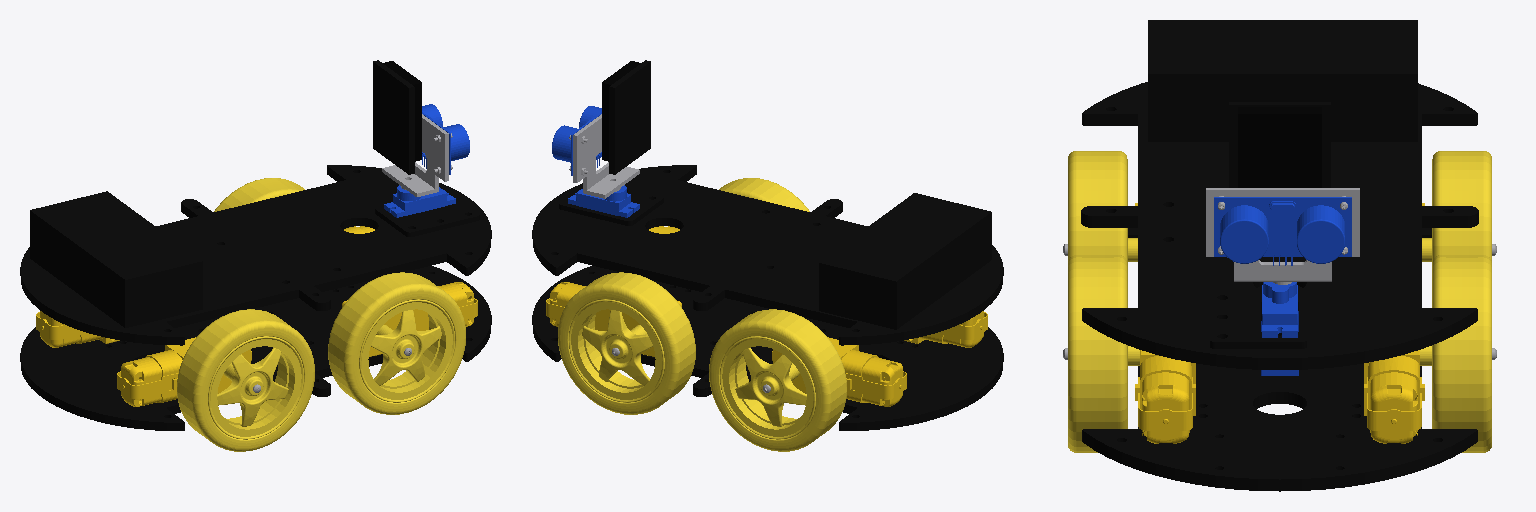
The robot description file, URDF, robot "elegoo_smart_robot_car_v4":
<?xml version="1.0"?>
<robot name="elegoo_smart_robot_car_v4">
  <material name="acrylic"><color rgba="0.08000 0.08000 0.08000 1.00000"/></material>
  <material name="motor"><color rgba="0.95000 0.80000 0.15000 1.00000"/></material>
  <material name="wheel"><color rgba="0.95000 0.85000 0.25000 1.00000"/></material>
  <material name="pcb"><color rgba="0.10000 0.35000 0.55000 1.00000"/></material>
  <material name="blue"><color rgba="0.15000 0.35000 0.85000 1.00000"/></material>
  <material name="metal"><color rgba="0.70000 0.70000 0.72000 1.00000"/></material>
  <material name="camera"><color rgba="0.05 0.05 0.05 1"/></material>
  <link name="base_footprint"/>
  <joint name="base_footprint_joint" type="fixed">
    <parent link="base_footprint"/>
    <child link="base_link"/>
    <origin xyz="0 0 0.03330"/>
  </joint>
  <link name="base_link">
    <visual>
      <geometry><mesh filename="meshes/base_link_acrylic.stl"/></geometry>
      <material name="acrylic"/>
    </visual>
    <visual>
      <geometry><mesh filename="meshes/base_link_blue.stl"/></geometry>
      <material name="blue"/>
    </visual>
    <visual>
      <geometry><mesh filename="meshes/base_link_metal.stl"/></geometry>
      <material name="metal"/>
    </visual>
    <visual>
      <geometry><mesh filename="meshes/base_link_motor.stl"/></geometry>
      <material name="motor"/>
    </visual>
    <visual>
      <geometry><mesh filename="meshes/base_link_pcb.stl"/></geometry>
      <material name="pcb"/>
    </visual>
    <visual>
      <origin xyz="-0.07550 0.00100 0.04565"/>
      <geometry><box size="0.04200 0.08960 0.02500"/></geometry>
      <material name="acrylic"/>
    </visual>
    <collision>
      <origin xyz="-0.00050 0.00000 0.00875"/>
      <geometry><box size="0.23190 0.13220 0.04920"/></geometry>
    </collision>
    <collision>
      <origin xyz="0.09150 0.00000 -0.02385"/>
      <geometry><box size="0.03500 0.04500 0.01150"/></geometry>
    </collision>
    <collision>
      <origin xyz="-0.03050 -0.00200 0.04575"/>
      <geometry><box size="0.15000 0.09000 0.02500"/></geometry>
    </collision>
    <inertial>
      <origin xyz="-0.00550 0.00000 0.01375"/>
      <mass value="0.62"/>
      <inertia ixx="1.191e-03" ixy="0" ixz="0" iyy="3.072e-03" iyz="0" izz="3.681e-03"/>
    </inertial>
  </link>
  <link name="front_left_wheel">
    <visual>
      <geometry><mesh filename="meshes/front_left_wheel_metal.stl"/></geometry>
      <material name="metal"/>
    </visual>
    <visual>
      <geometry><mesh filename="meshes/front_left_wheel_wheel.stl"/></geometry>
      <material name="wheel"/>
    </visual>
    <collision>
      <origin rpy="1.5708 0 0"/>
      <geometry><cylinder radius="0.0333" length="0.0257"/></geometry>
    </collision>
    <inertial>
      <origin xyz="0.00000 0.00000 0.00000"/>
      <mass value="0.03"/>
      <inertia ixx="9.968e-06" ixy="0" ixz="0" iyy="1.663e-05" iyz="0" izz="9.968e-06"/>
    </inertial>
  </link>
  <joint name="front_left_wheel_joint" type="continuous">
    <parent link="base_link"/>
    <child link="front_left_wheel"/>
    <origin xyz="0.04090 0.05800 0.00000"/>
    <axis xyz="0 1 0"/>
    <limit effort="0.1" velocity="21"/>
  </joint>
  <link name="front_right_wheel">
    <visual>
      <geometry><mesh filename="meshes/front_right_wheel_metal.stl"/></geometry>
      <material name="metal"/>
    </visual>
    <visual>
      <geometry><mesh filename="meshes/front_right_wheel_wheel.stl"/></geometry>
      <material name="wheel"/>
    </visual>
    <collision>
      <origin rpy="1.5708 0 0"/>
      <geometry><cylinder radius="0.0333" length="0.0257"/></geometry>
    </collision>
    <inertial>
      <origin xyz="0.00000 0.00000 0.00000"/>
      <mass value="0.03"/>
      <inertia ixx="9.968e-06" ixy="0" ixz="0" iyy="1.663e-05" iyz="0" izz="9.968e-06"/>
    </inertial>
  </link>
  <joint name="front_right_wheel_joint" type="continuous">
    <parent link="base_link"/>
    <child link="front_right_wheel"/>
    <origin xyz="0.04090 -0.05800 0.00000"/>
    <axis xyz="0 1 0"/>
    <limit effort="0.1" velocity="21"/>
  </joint>
  <link name="rear_left_wheel">
    <visual>
      <geometry><mesh filename="meshes/rear_left_wheel_metal.stl"/></geometry>
      <material name="metal"/>
    </visual>
    <visual>
      <geometry><mesh filename="meshes/rear_left_wheel_wheel.stl"/></geometry>
      <material name="wheel"/>
    </visual>
    <collision>
      <origin rpy="1.5708 0 0"/>
      <geometry><cylinder radius="0.0333" length="0.0257"/></geometry>
    </collision>
    <inertial>
      <origin xyz="0.00000 0.00000 0.00000"/>
      <mass value="0.03"/>
      <inertia ixx="9.968e-06" ixy="0" ixz="0" iyy="1.663e-05" iyz="0" izz="9.968e-06"/>
    </inertial>
  </link>
  <joint name="rear_left_wheel_joint" type="continuous">
    <parent link="base_link"/>
    <child link="rear_left_wheel"/>
    <origin xyz="-0.04090 0.05800 0.00000"/>
    <axis xyz="0 1 0"/>
    <limit effort="0.1" velocity="21"/>
  </joint>
  <link name="rear_right_wheel">
    <visual>
      <geometry><mesh filename="meshes/rear_right_wheel_metal.stl"/></geometry>
      <material name="metal"/>
    </visual>
    <visual>
      <geometry><mesh filename="meshes/rear_right_wheel_wheel.stl"/></geometry>
      <material name="wheel"/>
    </visual>
    <collision>
      <origin rpy="1.5708 0 0"/>
      <geometry><cylinder radius="0.0333" length="0.0257"/></geometry>
    </collision>
    <inertial>
      <origin xyz="0.00000 0.00000 0.00000"/>
      <mass value="0.03"/>
      <inertia ixx="9.968e-06" ixy="0" ixz="0" iyy="1.663e-05" iyz="0" izz="9.968e-06"/>
    </inertial>
  </link>
  <joint name="rear_right_wheel_joint" type="continuous">
    <parent link="base_link"/>
    <child link="rear_right_wheel"/>
    <origin xyz="-0.04090 -0.05800 0.00000"/>
    <axis xyz="0 1 0"/>
    <limit effort="0.1" velocity="21"/>
  </joint>
  <link name="sensor_pan">
    <visual>
      <geometry><mesh filename="meshes/sensor_pan_blue.stl"/></geometry>
      <material name="blue"/>
    </visual>
    <visual>
      <geometry><mesh filename="meshes/sensor_pan_metal.stl"/></geometry>
      <material name="metal"/>
    </visual>
    <visual>
      <origin xyz="-0.00780 0.00000 0.04100"/>
      <geometry><box size="0.00800 0.02800 0.04000"/></geometry>
      <material name="camera"/>
    </visual>
    <visual>
      <origin xyz="-0.01130 0.00000 0.03900"/>
      <geometry><box size="0.00300 0.03400 0.04500"/></geometry>
      <material name="acrylic"/>
    </visual>
    <collision>
      <origin xyz="0.00620 0.00000 0.02800"/>
      <geometry><box size="0.03800 0.04600 0.05000"/></geometry>
    </collision>
    <inertial>
      <origin xyz="0.00420 0.00000 0.02800"/>
      <mass value="0.03"/>
      <inertia ixx="1.154e-05" ixy="0" ixz="0" iyy="1.025e-05" iyz="0" izz="9.290e-06"/>
    </inertial>
  </link>
  <joint name="sensor_pan_joint" type="revolute">
    <parent link="base_link"/>
    <child link="sensor_pan"/>
    <origin xyz="0.08530 0.00000 0.04575"/>
    <axis xyz="0 0 1"/>
    <limit lower="-1.5708" upper="1.5708" effort="0.18" velocity="5.2"/>
  </joint>
  <link name="ultrasonic_link"/>
  <joint name="ultrasonic_link_joint" type="fixed">
    <parent link="sensor_pan"/>
    <child link="ultrasonic_link"/>
    <origin xyz="0.02470 0.00000 0.02250"/>
  </joint>
  <link name="camera_link"/>
  <joint name="camera_link_joint" type="fixed">
    <parent link="sensor_pan"/>
    <child link="camera_link"/>
    <origin xyz="-0.00280 0.00000 0.04700"/>
  </joint>
  <link name="imu_link"/>
  <joint name="imu_link_joint" type="fixed">
    <parent link="base_link"/>
    <child link="imu_link"/>
    <origin xyz="0.01950 -0.02000 0.06875"/>
  </joint>
  <link name="line_tracker_link"/>
  <joint name="line_tracker_link_joint" type="fixed">
    <parent link="base_link"/>
    <child link="line_tracker_link"/>
    <origin xyz="0.09150 0.00000 -0.02965"/>
  </joint>
  <link name="camera_optical_link"/>
  <joint name="camera_optical_joint" type="fixed">
    <parent link="camera_link"/>
    <child link="camera_optical_link"/>
    <origin rpy="-1.5708 0 -1.5708"/>
  </joint>
</robot>

--- Facts derived from the render (not from the file) ---
Views: 3 orthographic renders of the robot side by side, from view 1: azimuth 30°, elevation 25°; view 2: azimuth 150°, elevation 25°; view 3: azimuth 270°, elevation 25°.
Robot: elegoo_smart_robot_car_v4 — 12 links, 11 joints (1 revolute, 4 continuous, 6 fixed); root link base_footprint; default pose: all joints at 0.
Visible links, largest first — view 1: base_link, front_right_wheel, rear_right_wheel, sensor_pan, front_left_wheel; view 2: base_link, front_left_wheel, rear_left_wheel, sensor_pan, front_right_wheel; view 3: base_link, sensor_pan, front_left_wheel, front_right_wheel, rear_left_wheel, rear_right_wheel.
Link boxes in pixels (x1,y1,x2,y2): base_link: (20,165,491,430); front_right_wheel: (328,272,465,414); rear_right_wheel: (177,309,314,451); sensor_pan: (373,60,469,196); front_left_wheel: (214,178,304,211); base_link: (532,165,1003,430); front_left_wheel: (558,272,695,414); rear_left_wheel: (709,309,846,451); sensor_pan: (552,60,650,198); front_right_wheel: (719,178,809,211); base_link: (1081,20,1478,491); sensor_pan: (1206,102,1359,284); front_left_wheel: (1420,255,1496,452); front_right_wheel: (1063,255,1139,452); rear_left_wheel: (1422,151,1496,262); rear_right_wheel: (1063,151,1137,262).
Size in the robot's own frame: 0.2317 by 0.1442 by 0.1402 metres.
Meshes: 15 distinct files referenced, 13 mesh visuals loaded (13 binary STL); not drawn: 2 (reference not matched to a file when rendering).
